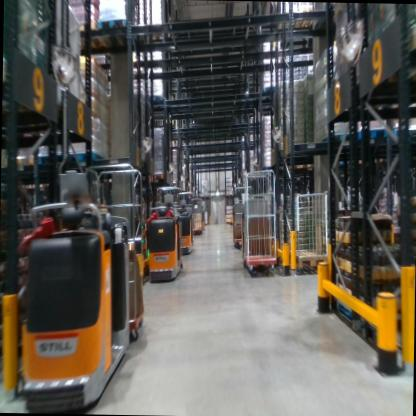forklift: (195, 196, 207, 235)
pallet: (140, 22, 327, 274), (312, 123, 362, 156), (69, 19, 111, 58), (96, 15, 133, 56), (269, 8, 317, 39), (62, 150, 112, 169), (362, 116, 391, 144), (36, 145, 64, 169), (388, 119, 416, 140), (3, 151, 35, 169), (146, 91, 172, 113), (199, 192, 209, 200), (224, 192, 233, 198)
pallet_truck: (10, 164, 155, 411), (138, 170, 192, 291), (163, 180, 194, 254)
